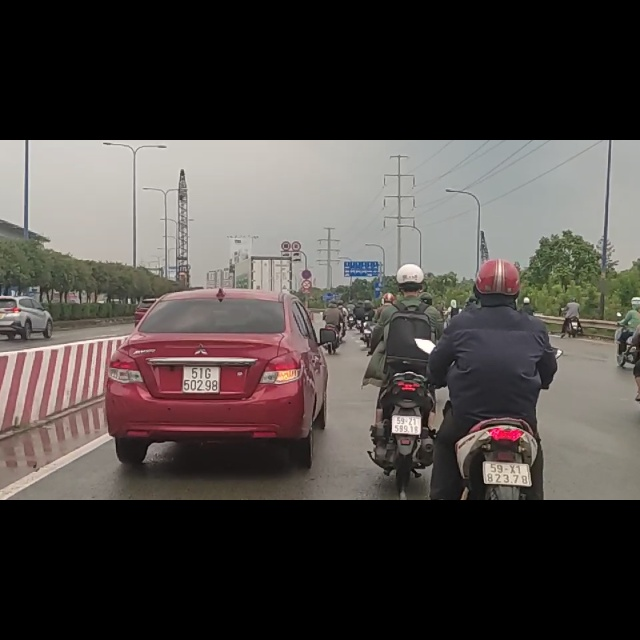bien_cam: (300, 228, 313, 248)
